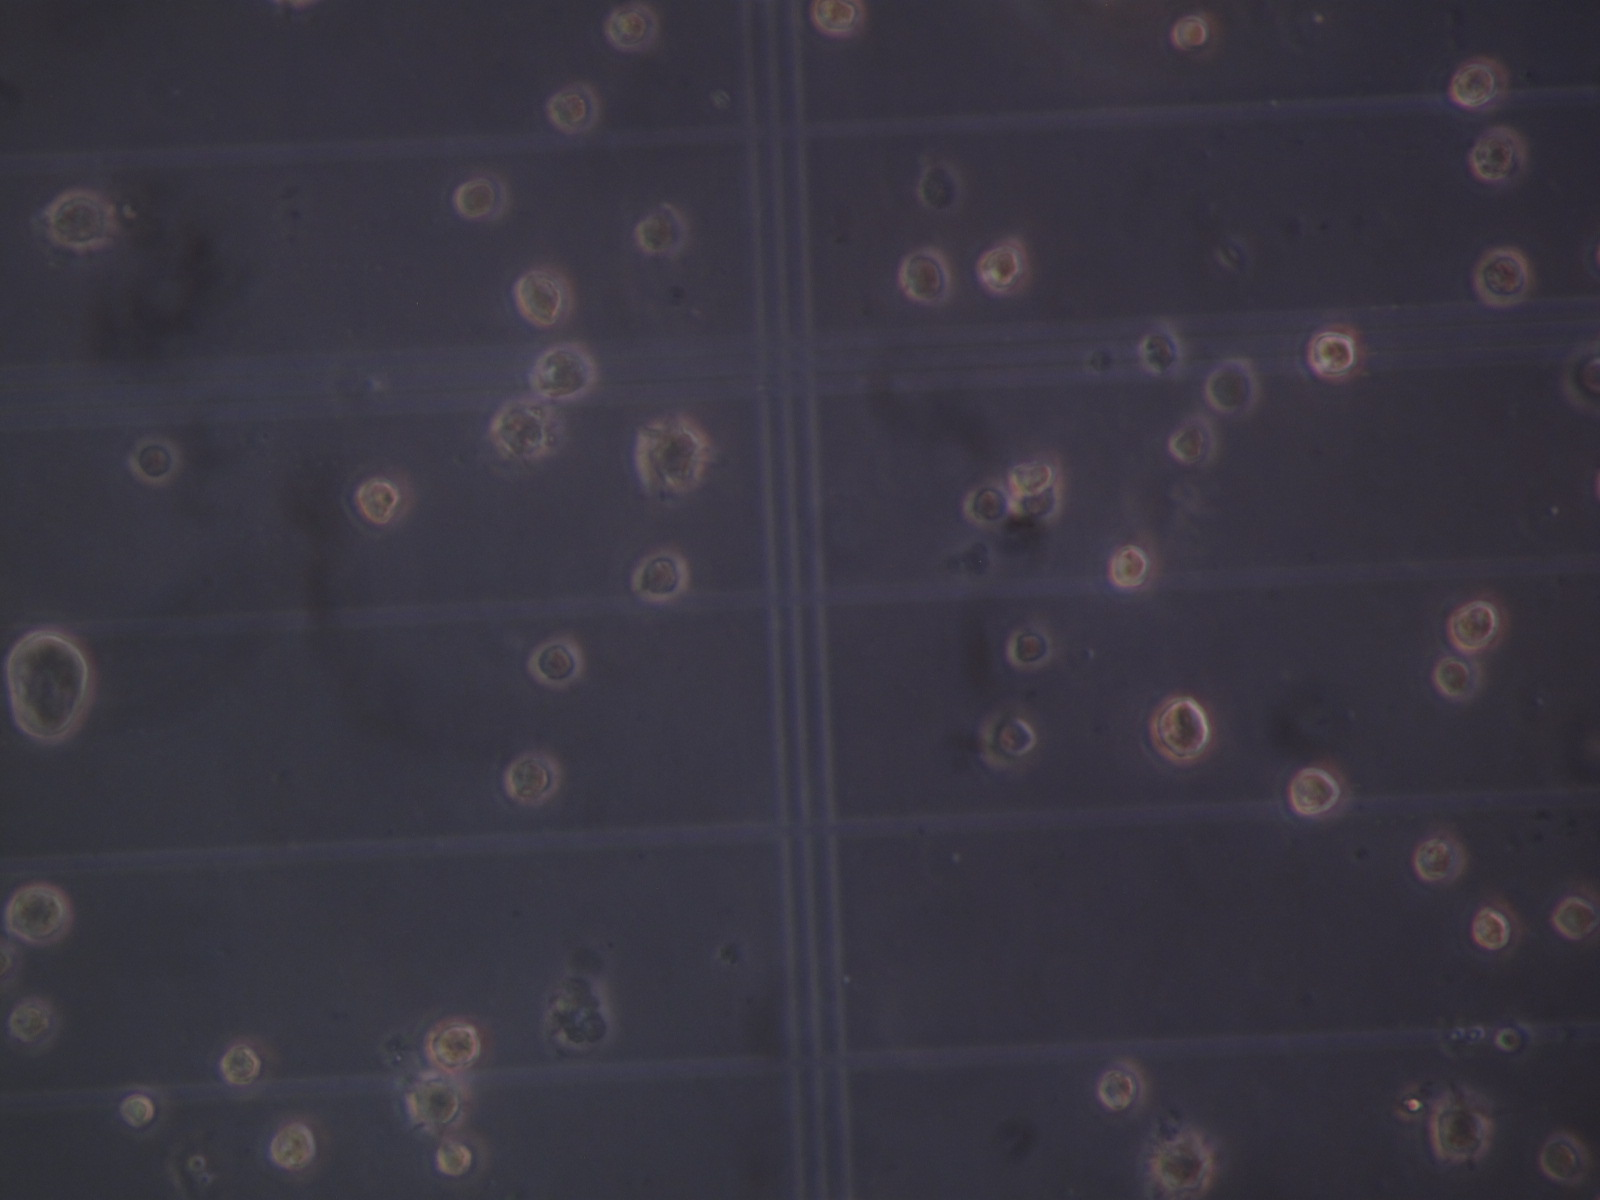hemo: (641, 413, 711, 490), (44, 192, 115, 252), (532, 342, 598, 405), (403, 1068, 466, 1132), (8, 884, 73, 945), (976, 703, 1036, 771), (1150, 696, 1209, 763), (1151, 1134, 1214, 1196), (1432, 1100, 1493, 1162), (493, 397, 549, 461), (511, 271, 577, 326), (426, 1015, 483, 1076), (1474, 245, 1531, 306), (220, 1034, 276, 1097), (1446, 597, 1504, 654), (900, 246, 952, 308), (1470, 125, 1527, 182), (355, 478, 414, 532), (634, 200, 688, 260), (634, 550, 690, 605), (1099, 1055, 1149, 1117), (546, 82, 600, 137), (454, 168, 506, 224), (1208, 355, 1260, 413), (1306, 325, 1358, 383), (437, 1132, 489, 1189), (1167, 413, 1217, 471), (1454, 59, 1508, 112), (1414, 834, 1468, 887), (529, 637, 585, 688), (504, 755, 563, 803), (1540, 1129, 1589, 1186), (10, 998, 62, 1051), (118, 1083, 166, 1137), (1473, 900, 1521, 954), (1289, 768, 1340, 817), (1563, 342, 1600, 411), (268, 1121, 317, 1170), (130, 435, 179, 484), (978, 245, 1026, 295), (606, 3, 655, 50), (1551, 892, 1597, 940), (1139, 323, 1180, 376), (1007, 626, 1054, 672), (1436, 657, 1484, 701), (1107, 545, 1151, 587), (1010, 489, 1063, 524), (963, 484, 1008, 524), (811, 1, 866, 34), (1170, 13, 1211, 54), (1007, 463, 1056, 495), (1495, 1017, 1534, 1058)
